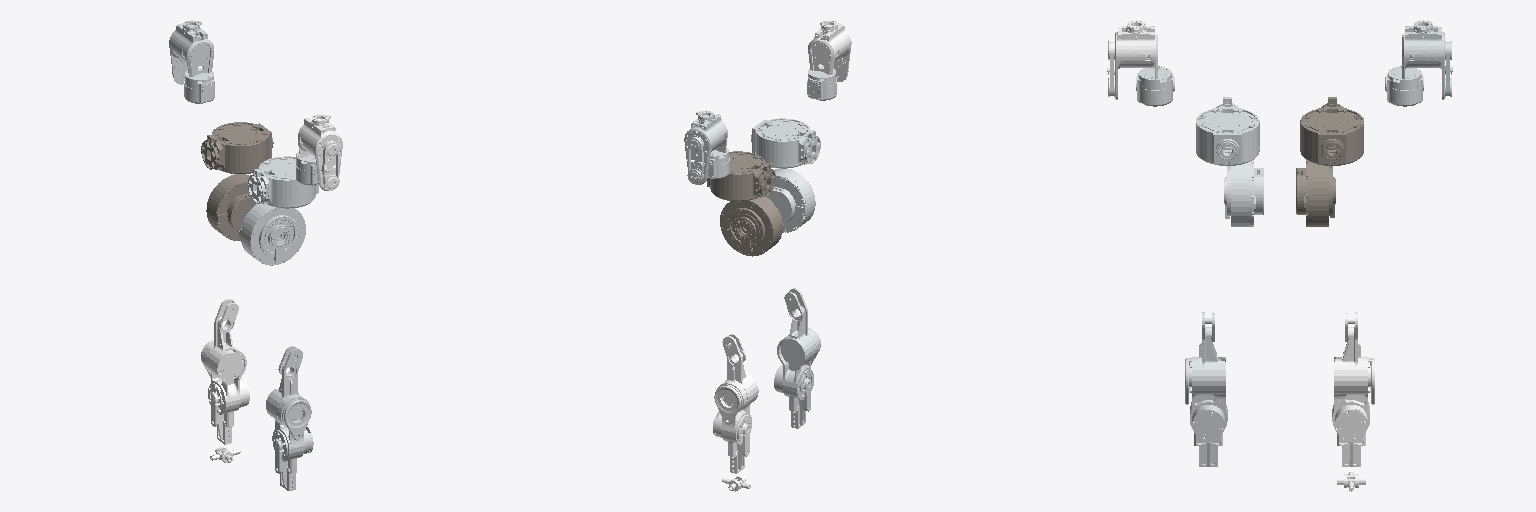
--- Render facts (derived) ---
The picture shows the robot from 3 angles, left to right: view 1: azimuth 30°, elevation 25°; view 2: azimuth 150°, elevation 25°; view 3: azimuth 270°, elevation 25°; orthographic projection.
Robot: dora2.6_0830 — 21 links, 20 joints (12 revolute, 8 fixed); root link base_link; default pose: all joints at 0.
Visible links, largest first — view 1: l_leg_knee_Link, r_leg_knee_Link, r_leg_hip_yaw_Link, l_leg_hip_roll_Link, r_leg_hip_roll_Link, r_arm_shoulder_yaw_Link, l_leg_hip_yaw_Link, l_arm_shoulder_yaw_Link, l_arm_elbow_Link, r_arm_elbow_Link; view 2: r_leg_knee_Link, l_leg_knee_Link, l_leg_hip_yaw_Link, r_leg_hip_roll_Link, l_leg_hip_roll_Link, l_arm_shoulder_yaw_Link, r_leg_hip_yaw_Link, r_arm_shoulder_yaw_Link, r_arm_elbow_Link, l_arm_elbow_Link; view 3: l_leg_knee_Link, r_leg_knee_Link, l_leg_hip_roll_Link, r_leg_hip_roll_Link, l_arm_shoulder_yaw_Link, r_arm_shoulder_yaw_Link, r_leg_hip_yaw_Link, l_leg_hip_yaw_Link, l_arm_elbow_Link, r_arm_elbow_Link.
Link boxes in pixels (left/top/right/bottom): l_leg_knee_Link: left=201, top=299, right=249, bottom=444; r_leg_knee_Link: left=266, top=346, right=313, bottom=490; r_leg_hip_yaw_Link: left=239, top=203, right=305, bottom=265; l_leg_hip_roll_Link: left=201, top=122, right=273, bottom=173; r_leg_hip_roll_Link: left=248, top=156, right=318, bottom=208; r_arm_shoulder_yaw_Link: left=298, top=114, right=342, bottom=190; l_leg_hip_yaw_Link: left=206, top=174, right=256, bottom=240; l_arm_shoulder_yaw_Link: left=169, top=20, right=213, bottom=84; l_arm_elbow_Link: left=184, top=68, right=214, bottom=103; r_arm_elbow_Link: left=296, top=152, right=318, bottom=185; r_leg_knee_Link: left=774, top=288, right=820, bottom=428; l_leg_knee_Link: left=713, top=334, right=758, bottom=473; l_leg_hip_yaw_Link: left=720, top=196, right=783, bottom=256; r_leg_hip_roll_Link: left=751, top=118, right=820, bottom=168; l_leg_hip_roll_Link: left=707, top=151, right=775, bottom=201; l_arm_shoulder_yaw_Link: left=684, top=111, right=727, bottom=184; r_leg_hip_yaw_Link: left=767, top=168, right=815, bottom=232; r_arm_shoulder_yaw_Link: left=808, top=20, right=851, bottom=81; r_arm_elbow_Link: left=807, top=66, right=836, bottom=100; l_arm_elbow_Link: left=708, top=147, right=729, bottom=178; l_leg_knee_Link: left=1332, top=312, right=1374, bottom=466; r_leg_knee_Link: left=1185, top=312, right=1227, bottom=466; l_leg_hip_roll_Link: left=1300, top=97, right=1363, bottom=165; r_leg_hip_roll_Link: left=1196, top=97, right=1259, bottom=165; l_arm_shoulder_yaw_Link: left=1402, top=20, right=1452, bottom=99; r_arm_shoulder_yaw_Link: left=1107, top=20, right=1157, bottom=99; r_leg_hip_yaw_Link: left=1224, top=160, right=1263, bottom=226; l_leg_hip_yaw_Link: left=1296, top=160, right=1335, bottom=226; l_arm_elbow_Link: left=1385, top=66, right=1423, bottom=106; r_arm_elbow_Link: left=1136, top=66, right=1174, bottom=106.
Size in the robot's own frame: 0.1427 by 0.5938 by 0.8781 metres.
Meshes: 21 distinct files referenced, 11 mesh visuals loaded (11 binary STL); not drawn: 10 (reference not matched to a file when rendering).

robot.urdf — dora2.6_0830:
<?xml version="1.0" encoding="utf-8"?>
<!-- This URDF was automatically created by SolidWorks to URDF Exporter! Originally created by Stephen Brawner ([email redacted]) 
     Commit Version: 1.6.0-4-g7f85cfe  Build Version: 1.6.7995.38578
     For more information, please see http://wiki.ros.org/sw_urdf_exporter -->
<robot
  name="dora2.6_0830">

  <link
    name="base_link">
    <inertial>
      <origin
        xyz="-0.026074 0.00081098 0.059104"
        rpy="0 0 0" />
      <mass
        value="9.5428" />
      <inertia
        ixx="0.033938"
        ixy="-9.4381E-07"
        ixz="9.0452E-06"
        iyy="0.023262"
        iyz="1.2173E-05"
        izz="0.021795" />
    </inertial>
    <visual>
      <origin
        xyz="0 0 0"
        rpy="0 0 0" />
      <geometry>
        <mesh
          filename="../meshes/base_link.STL" />
      </geometry>
      <material
        name="">
        <color
          rgba="0.89804 0.91765 0.92941 1" />
      </material>
    </visual>
    <collision>
      <origin
        xyz="0 0. 0.1"
        rpy="0 0 0" />
      <geometry>
        <box size="0.25 0.22 0.32"/>
      </geometry>
    </collision>
  </link>
  <link
    name="l_arm_shoulder_pitch_Link">
    <inertial>
      <origin
        xyz="0.00024061 -9.4525E-05 0.052553"
        rpy="0 0 0" />
      <mass
        value="0.6754" />
      <inertia
        ixx="0.0002956"
        ixy="2.4878E-07"
        ixz="-7.477E-06"
        iyy="0.00023377"
        iyz="9.6741E-07"
        izz="0.00022629" />
    </inertial>
    <visual>
      <origin
        xyz="0 0 0"
        rpy="0 0 0" />
      <geometry>
        <mesh
          filename="../meshes/l_arm_shoulder_pitch_Link.STL" />
      </geometry>
      <material
        name="">
        <color
          rgba="0.89804 0.91765 0.92941 1" />
      </material>
    </visual>
    <collision>
      <origin
        xyz="0 0 0"
        rpy="0 0 0" />
      <geometry>
        <mesh
          filename="../meshes/l_arm_shoulder_pitch_Link.STL" />
      </geometry>
    </collision>
  </link>
  <joint
    name="l_arm_shoulder_pitch_joint"
    type="fixed">
    <origin
      xyz="-0.0034447 0.18217 0.20865"
      rpy="-1.2217 0 0" />
    <parent
      link="base_link" />
    <child
      link="l_arm_shoulder_pitch_Link" />
    <axis
      xyz="0 0 1" />
    <limit
      lower="-2"
      upper="2"
      effort="100"
      velocity="10" />
  </joint>
  <link
    name="l_arm_shoulder_roll_Link">
    <inertial>
      <origin
        xyz="-0.00029941 6.308E-05 -0.074335"
        rpy="0 0 0" />
      <mass
        value="0.55465" />
      <inertia
        ixx="0.00039714"
        ixy="3.4586E-08"
        ixz="-4.4404E-05"
        iyy="0.00041301"
        iyz="-5.2818E-08"
        izz="0.00025009" />
    </inertial>
    <visual>
      <origin
        xyz="0 0 0"
        rpy="0 0 0" />
      <geometry>
        <mesh
          filename="../meshes/l_arm_shoulder_roll_Link.STL" />
      </geometry>
      <material
        name="">
        <color
          rgba="0.89804 0.91765 0.92941 1" />
      </material>
    </visual>
    <collision>
      <origin
        xyz="0 0 0"
        rpy="0 0 0" />
      <geometry>
        <mesh
          filename="../meshes/l_arm_shoulder_roll_Link.STL" />
      </geometry>
    </collision>
  </link>
  <joint
    name="l_arm_shoulder_roll_joint"
    type="fixed">
    <origin
      xyz="0.00094467 0 0.068901"
      rpy="1.2217 0 0" />
    <parent
      link="l_arm_shoulder_pitch_Link" />
    <child
      link="l_arm_shoulder_roll_Link" />
    <axis
      xyz="1 0 0" />
    <limit
      lower="-3"
      upper="0"
      effort="100"
      velocity="10" />
  </joint>
  <link
    name="l_arm_shoulder_yaw_Link">
    <inertial>
      <origin
        xyz="5.8038E-05 0.001704 -0.080449"
        rpy="0 0 0" />
      <mass
        value="0.60089" />
      <inertia
        ixx="0.00026556"
        ixy="-6.5782E-08"
        ixz="3.4956E-08"
        iyy="0.00028755"
        iyz="2.2947E-05"
        izz="0.00025779" />
    </inertial>
    <visual>
      <origin
        xyz="0 0 0"
        rpy="0 0 0" />
      <geometry>
        <mesh
          filename="../meshes/l_arm_shoulder_yaw_Link.STL" />
      </geometry>
      <material
        name="">
        <color
          rgba="0.89804 0.91765 0.92941 1" />
      </material>
    </visual>
    <collision>
      <origin
        xyz="0 0 0"
        rpy="0 0 0" />
      <geometry>
        <mesh
          filename="../meshes/l_arm_shoulder_yaw_Link.STL" />
      </geometry>
    </collision>
  </link>
  <joint
    name="l_arm_shoulder_yaw_joint"
    type="fixed">
    <origin
      xyz="0.0005 0 -0.11715"
      rpy="0 0 0" />
    <parent
      link="l_arm_shoulder_roll_Link" />
    <child
      link="l_arm_shoulder_yaw_Link" />
    <axis
      xyz="0 0 1" />
    <limit
      lower="-2"
      upper="2"
      effort="100"
      velocity="10" />
  </joint>
  <link
    name="l_arm_elbow_Link">
    <inertial>
      <origin
        xyz="2.523E-07 0.016195 -0.030689"
        rpy="0 0 0" />
      <mass
        value="0.07308" />
      <inertia
        ixx="4.5329E-05"
        ixy="-3.0359E-10"
        ixz="3.2522E-10"
        iyy="4.2842E-05"
        iyz="1.3012E-05"
        izz="3.8962E-05" />
    </inertial>
    <visual>
      <origin
        xyz="0 0 0"
        rpy="0 0 0" />
      <geometry>
        <mesh
          filename="../meshes/l_arm_elbow_Link.STL" />
      </geometry>
      <material
        name="">
        <color
          rgba="0.89804 0.91765 0.92941 1" />
      </material>
    </visual>
    <collision>
      <origin
        xyz="0 0 0"
        rpy="0 0 0" />
      <geometry>
        <mesh
          filename="../meshes/l_arm_elbow_Link.STL" />
      </geometry>
    </collision>
  </link>
  <joint
    name="l_arm_elbow_joint"
    type="fixed">
    <origin
      xyz="0 -0.03225 -0.10985"
      rpy="0 0 0" />
    <parent
      link="l_arm_shoulder_yaw_Link" />
    <child
      link="l_arm_elbow_Link" />
    <axis
      xyz="0 1 0" />
    <limit
      lower="-1.5"
      upper="1.5"
      effort="100"
      velocity="10" />
  </joint>
  <link
    name="r_arm_shoulder_pitch_Link">
    <inertial>
      <origin
        xyz="0.00024061 9.4525E-05 0.052553"
        rpy="0 0 0" />
      <mass
        value="0.6754" />
      <inertia
        ixx="0.0002956"
        ixy="-2.4878E-07"
        ixz="-7.477E-06"
        iyy="0.00023377"
        iyz="-9.6741E-07"
        izz="0.00022629" />
    </inertial>
    <visual>
      <origin
        xyz="0 0 0"
        rpy="0 0 0" />
      <geometry>
        <mesh
          filename="../meshes/r_arm_shoulder_pitch_Link.STL" />
      </geometry>
      <material
        name="">
        <color
          rgba="1 1 1 1" />
      </material>
    </visual>
    <collision>
      <origin
        xyz="0 0 0"
        rpy="0 0 0" />
      <geometry>
        <mesh
          filename="../meshes/r_arm_shoulder_pitch_Link.STL" />
      </geometry>
    </collision>
  </link>
  <joint
    name="r_arm_shoulder_pitch_joint"
    type="fixed">
    <origin
      xyz="-0.0034447 -0.18217 0.20865"
      rpy="1.2217 0 0" />
    <parent
      link="base_link" />
    <child
      link="r_arm_shoulder_pitch_Link" />
    <axis
      xyz="0 0 1" />
    <limit
      lower="-2"
      upper="2"
      effort="100"
      velocity="10" />
  </joint>
  <link
    name="r_arm_shoulder_roll_Link">
    <inertial>
      <origin
        xyz="-0.00029941 -6.308E-05 -0.074335"
        rpy="0 0 0" />
      <mass
        value="0.55465" />
      <inertia
        ixx="0.00039714"
        ixy="-3.4586E-08"
        ixz="-4.4404E-05"
        iyy="0.00041301"
        iyz="5.2818E-08"
        izz="0.00025009" />
    </inertial>
    <visual>
      <origin
        xyz="0 0 0"
        rpy="0 0 0" />
      <geometry>
        <mesh
          filename="../meshes/r_arm_shoulder_roll_Link.STL" />
      </geometry>
      <material
        name="">
        <color
          rgba="1 1 1 1" />
      </material>
    </visual>
    <collision>
      <origin
        xyz="0 0 0"
        rpy="0 0 0" />
      <geometry>
        <mesh
          filename="../meshes/r_arm_shoulder_roll_Link.STL" />
      </geometry>
    </collision>
  </link>
  <joint
    name="r_arm_shoulder_roll_joint"
    type="fixed">
    <origin
      xyz="0.00094467 0 0.068901"
      rpy="-1.2217 0 0" />
    <parent
      link="r_arm_shoulder_pitch_Link" />
    <child
      link="r_arm_shoulder_roll_Link" />
    <axis
      xyz="1 0 0" />
    <limit
      lower="0"
      upper="3"
      effort="100"
      velocity="10" />
  </joint>
  <link
    name="r_arm_shoulder_yaw_Link">
    <inertial>
      <origin
        xyz="5.8038E-05 -0.001704 -0.080449"
        rpy="0 0 0" />
      <mass
        value="0.60089" />
      <inertia
        ixx="0.00026556"
        ixy="6.5782E-08"
        ixz="3.4956E-08"
        iyy="0.00028755"
        iyz="-2.2947E-05"
        izz="0.00025779" />
    </inertial>
    <visual>
      <origin
        xyz="0 0 0"
        rpy="0 0 0" />
      <geometry>
        <mesh
          filename="../meshes/r_arm_shoulder_yaw_Link.STL" />
      </geometry>
      <material
        name="">
        <color
          rgba="1 1 1 1" />
      </material>
    </visual>
    <collision>
      <origin
        xyz="0 0 0"
        rpy="0 0 0" />
      <geometry>
        <mesh
          filename="../meshes/r_arm_shoulder_yaw_Link.STL" />
      </geometry>
    </collision>
  </link>
  <joint
    name="r_arm_shoulder_yaw_joint"
    type="fixed">
    <origin
      xyz="0.0005 0 -0.11715"
      rpy="0 0 0" />
    <parent
      link="r_arm_shoulder_roll_Link" />
    <child
      link="r_arm_shoulder_yaw_Link" />
    <axis
      xyz="0 0 1" />
    <limit
      lower="-2"
      upper="2"
      effort="100"
      velocity="10" />
  </joint>
  <link
    name="r_arm_elbow_Link">
    <inertial>
      <origin
        xyz="-2.523E-07 -0.016195 -0.030689"
        rpy="0 0 0" />
      <mass
        value="0.07308" />
      <inertia
        ixx="4.5329E-05"
        ixy="-3.0359E-10"
        ixz="-3.2522E-10"
        iyy="4.2842E-05"
        iyz="-1.3012E-05"
        izz="3.8962E-05" />
    </inertial>
    <visual>
      <origin
        xyz="0 0 0"
        rpy="0 0 0" />
      <geometry>
        <mesh
          filename="../meshes/r_arm_elbow_Link.STL" />
      </geometry>
      <material
        name="">
        <color
          rgba="0.89804 0.91765 0.92941 1" />
      </material>
    </visual>
    <collision>
      <origin
        xyz="0 0 0"
        rpy="0 0 0" />
      <geometry>
        <mesh
          filename="../meshes/r_arm_elbow_Link.STL" />
      </geometry>
    </collision>
  </link>
  <joint
    name="r_arm_elbow_joint"
    type="fixed">
    <origin
      xyz="0 0.03225 -0.10985"
      rpy="0 0 0" />
    <parent
      link="r_arm_shoulder_yaw_Link" />
    <child
      link="r_arm_elbow_Link" />
    <axis
      xyz="0 1 0" />
    <limit
      lower="-1.5"
      upper="1.5"
      effort="100"
      velocity="10" />
  </joint>
  <link
    name="l_leg_hip_roll_Link">
    <inertial>
      <origin
        xyz="0.057165 0.00012494 -0.00047338"
        rpy="0 0 0" />
      <mass
        value="1.2507" />
      <inertia
        ixx="0.001114"
        ixy="1.3491E-06"
        ixz="4.9303E-06"
        iyy="0.0012191"
        iyz="-2.5935E-07"
        izz="0.0021537" />
    </inertial>
    <visual>
      <origin
        xyz="0 0 0"
        rpy="0 0 0" />
      <geometry>
        <mesh
          filename="../meshes/l_leg_hip_roll_Link.STL" />
      </geometry>
      <material
        name="">
        <color
          rgba="0.64706 0.61961 0.58824 1" />
      </material>
    </visual>
    <!-- <collision>
      <origin
        xyz="0 0 0"
        rpy="0 0 0" />
      <geometry>
        <mesh
          filename="../meshes/l_leg_hip_roll_Link.STL" />
      </geometry>
    </collision> -->
  </link>
  <joint
    name="l_leg_hip_roll_joint"
    type="revolute">
    <origin
      xyz="-0.0647 0.09002 -0.08415"
      rpy="0 0 0" />
    <parent
      link="base_link" />
    <child
      link="l_leg_hip_roll_Link" />
    <axis
      xyz="1 0 0" />
    <limit
      lower="-0.5"
      upper="1"
      effort="90"
      velocity="10" />
  </joint>
  <link
    name="l_leg_hip_yaw_Link">
    <inertial>
      <origin
        xyz="0.00017067 -0.018574 -0.070398"
        rpy="0 0 0" />
      <mass
        value="1.6553" />
      <inertia
        ixx="0.0017273"
        ixy="1.2289E-06"
        ixz="-2.3628E-06"
        iyy="0.0030808"
        iyz="2.6947E-06"
        izz="0.0015598" />
    </inertial>
    <visual>
      <origin
        xyz="0 0 0"
        rpy="0 0 0" />
      <geometry>
        <mesh
          filename="../meshes/l_leg_hip_yaw_Link.STL" />
      </geometry>
      <material
        name="">
        <color
          rgba="0.64706 0.61961 0.58824 1" />
      </material>
    </visual>
    <collision>
      <origin
        xyz="0 0 0"
        rpy="0 0 0" />
      <geometry>
        <mesh
          filename="../meshes/l_leg_hip_yaw_Link.STL" />
      </geometry>
    </collision>
  </link>
  <joint
    name="l_leg_hip_yaw_joint"
    type="revolute">
    <origin
      xyz="0.0645 0 -0.0375"
      rpy="0 0 0" />
    <parent
      link="l_leg_hip_roll_Link" />
    <child
      link="l_leg_hip_yaw_Link" />
    <axis
      xyz="0 0 1" />
    <limit
      lower="-0.8"
      upper="1.05"
      effort="90"
      velocity="10" />
  </joint>
  <link
    name="l_leg_hip_pitch_Link">
    <inertial>
      <origin
        xyz="0.0026578 0.017741 -0.051954"
        rpy="0 0 0" />
      <mass
        value="2.6997" />
      <inertia
        ixx="0.01282"
        ixy="-7.2283E-06"
        ixz="0.00012255"
        iyy="0.014693"
        iyz="0.00018258"
        izz="0.0021953" />
    </inertial>
    <visual>
      <origin
        xyz="0 0 0"
        rpy="0 0 0" />
      <geometry>
        <mesh
          filename="../meshes/l_leg_hip_pitch_Link.STL" />
      </geometry>
      <material
        name="">
        <color
          rgba="1 1 1 1" />
      </material>
    </visual>
    <collision>
      <origin
        xyz="0 0 0"
        rpy="0 0 0" />
      <geometry>
        <mesh
          filename="../meshes/l_leg_hip_pitch_Link.STL" />
      </geometry>
    </collision>
  </link>
  <joint
    name="l_leg_hip_pitch_joint"
    type="revolute">
    <origin
      xyz="0 0.032659 -0.076"
      rpy="0 0 0" />
    <parent
      link="l_leg_hip_yaw_Link" />
    <child
      link="l_leg_hip_pitch_Link" />
    <axis
      xyz="0 1 0" />
    <limit
      lower="-1.5"
      upper="1.5"
      effort="150"
      velocity="10" />
  </joint>
  <link
    name="l_leg_knee_Link">
    <inertial>
      <origin
        xyz="-0.0062096 0.0025588 -0.14058"
        rpy="0 0 0" />
      <mass
        value="1.7014" />
      <inertia
        ixx="0.0036795"
        ixy="-4.0001E-06"
        ixz="-2.5866E-05"
        iyy="0.0036512"
        iyz="-0.00027478"
        izz="0.00045575" />
    </inertial>
    <visual>
      <origin
        xyz="0 0 0"
        rpy="0 0 0" />
      <geometry>
        <mesh
          filename="../meshes/l_leg_knee_Link.STL" />
      </geometry>
      <material
        name="">
        <color
          rgba="1 1 1 1" />
      </material>
    </visual>
    <collision>
      <origin
        xyz="0 0 0"
        rpy="0 0 0" />
      <geometry>
        <mesh
          filename="../meshes/l_leg_knee_Link.STL" />
      </geometry>
    </collision>
  </link>
  <joint
    name="l_leg_knee_joint"
    type="revolute">
    <origin
      xyz="0 0 -0.27"
      rpy="0 0 0" />
    <parent
      link="l_leg_hip_pitch_Link" />
    <child
      link="l_leg_knee_Link" />
    <axis
      xyz="0 1 0" />
    <limit
      lower="0"
      upper="2.25"
      effort="150"
      velocity="10" />
  </joint>
  <link
    name="l_leg_ankle_pitch_Link">
    <inertial>
      <origin
        xyz="-0.017566 -1.9889E-05 1.2907E-08"
        rpy="0 0 0" />
      <mass
        value="0.18423" />
      <inertia
        ixx="1.2397E-05"
        ixy="1.1543E-06"
        ixz="-4.4333E-10"
        iyy="1.7643E-05"
        iyz="7.8322E-10"
        izz="2.16E-05" />
    </inertial>
    <visual>
      <origin
        xyz="0 0 0"
        rpy="0 0 0" />
      <geometry>
        <mesh
          filename="../meshes/l_leg_ankle_pitch_Link.STL" />
      </geometry>
      <material
        name="">
        <color
          rgba="1 1 1 1" />
      </material>
    </visual>
    <!-- <collision>
      <origin
        xyz="0 0 0"
        rpy="0 0 0" />
      <geometry>
        <mesh
          filename="../meshes/l_leg_ankle_pitch_Link.STL" />
      </geometry>
    </collision> -->
  </link>
  <joint
    name="l_leg_ankle_pitch_joint"
    type="revolute">
    <origin
      xyz="-2.6375E-05 0 -0.28"
      rpy="0 0 0" />
    <parent
      link="l_leg_knee_Link" />
    <child
      link="l_leg_ankle_pitch_Link" />
    <axis
      xyz="0 1 0" />
    <limit
      lower="-0.97"
      upper="0.57"
      effort="36"
      velocity="10" />
  </joint>
  <link
    name="l_leg_ankle_roll_Link">
    <inertial>
      <origin
        xyz="0.019178 -0.0031074 -0.037465"
        rpy="0 0 0" />
      <mass
        value="0.60591" />
      <inertia
        ixx="0.00026575"
        ixy="-3.345E-09"
        ixz="-1.9811E-06"
        iyy="0.0010039"
        iyz="2.0542E-06"
        izz="0.0011851" />
    </inertial>
    <visual>
      <origin
        xyz="0 0 0"
        rpy="0 0 0" />
      <geometry>
        <mesh
          filename="../meshes/l_leg_ankle_roll_Link.STL" />
      </geometry>
      <material
        name="">
        <color
          rgba="1 1 1 1" />
      </material>
    </visual>
    <collision>
      <origin
        xyz="0 0 0"
        rpy="0 0 0" />
      <geometry>
        <mesh
          filename="../meshes/l_leg_ankle_roll_Link.STL" />
      </geometry>
    </collision>
  </link>
  <joint
    name="l_leg_ankle_roll_joint"
    type="revolute">
    <origin
      xyz="0 0 0"
      rpy="0 0 0" />
    <parent
      link="l_leg_ankle_pitch_Link" />
    <child
      link="l_leg_ankle_roll_Link" />
    <axis
      xyz="1 0 0" />
    <limit
      lower="-0.5"
      upper="0.5"
      effort="36"
      velocity="10" />
  </joint>
  <link
    name="r_leg_hip_roll_Link">
    <inertial>
      <origin
        xyz="0.057165 -0.00012494 -0.00047338"
        rpy="0 0 0" />
      <mass
        value="1.2507" />
      <inertia
        ixx="0.001114"
        ixy="-1.3491E-06"
        ixz="4.9303E-06"
        iyy="0.0012191"
        iyz="2.5935E-07"
        izz="0.0021537" />
    </inertial>
    <visual>
      <origin
        xyz="0 0 0"
        rpy="0 0 0" />
      <geometry>
        <mesh
          filename="../meshes/r_leg_hip_roll_Link.STL" />
      </geometry>
      <material
        name="">
        <color
          rgba="0.89804 0.91765 0.92941 1" />
      </material>
    </visual>
    <!-- <collision>
      <origin
        xyz="0 0 0"
        rpy="0 0 0" />
      <geometry>
        <mesh
          filename="../meshes/r_leg_hip_roll_Link.STL" />
      </geometry>
    </collision> -->
  </link>
  <joint
    name="r_leg_hip_roll_joint"
    type="revolute">
    <origin
      xyz="-0.0647 -0.08998 -0.08415"
      rpy="0 0 0" />
    <parent
      link="base_link" />
    <child
      link="r_leg_hip_roll_Link" />
    <axis
      xyz="1 0 0" />
    <limit
      lower="-1"
      upper="0.5"
      effort="90"
      velocity="10" />
  </joint>
  <link
    name="r_leg_hip_yaw_Link">
    <inertial>
      <origin
        xyz="0.00017067 0.018574 -0.070398"
        rpy="0 0 0" />
      <mass
        value="1.6553" />
      <inertia
        ixx="0.0017273"
        ixy="-1.2289E-06"
        ixz="-2.3628E-06"
        iyy="0.0030808"
        iyz="-2.6947E-06"
        izz="0.0015598" />
    </inertial>
    <visual>
      <origin
        xyz="0 0 0"
        rpy="0 0 0" />
      <geometry>
        <mesh
          filename="../meshes/r_leg_hip_yaw_Link.STL" />
      </geometry>
      <material
        name="">
        <color
          rgba="0.89804 0.91765 0.92941 1" />
      </material>
    </visual>
    <collision>
      <origin
        xyz="0 0 0"
        rpy="0 0 0" />
      <geometry>
        <mesh
          filename="../meshes/r_leg_hip_yaw_Link.STL" />
      </geometry>
    </collision>
  </link>
  <joint
    name="r_leg_hip_yaw_joint"
    type="revolute">
    <origin
      xyz="0.0645 0 -0.0375"
      rpy="0 0 0" />
    <parent
      link="r_leg_hip_roll_Link" />
    <child
      link="r_leg_hip_yaw_Link" />
    <axis
      xyz="0 0 1" />
    <limit
      lower="-1.05"
      upper="0.8"
      effort="90"
      velocity="10" />
  </joint>
  <link
    name="r_leg_hip_pitch_Link">
    <inertial>
      <origin
        xyz="0.0025536 -0.018547 -0.049918"
        rpy="0 0 0" />
      <mass
        value="2.6997" />
      <inertia
        ixx="0.012929"
        ixy="7.2282E-06"
        ixz="0.00012255"
        iyy="0.014897"
        iyz="-0.00018258"
        izz="0.0023031" />
    </inertial>
    <visual>
      <origin
        xyz="0 0 0"
        rpy="0 0 0" />
      <geometry>
        <mesh
          filename="../meshes/r_leg_hip_pitch_Link.STL" />
      </geometry>
      <material
        name="">
        <color
          rgba="0.89804 0.91765 0.92941 1" />
      </material>
    </visual>
    <collision>
      <origin
        xyz="0 0 0"
        rpy="0 0 0" />
      <geometry>
        <mesh
          filename="../meshes/r_leg_hip_pitch_Link.STL" />
      </geometry>
    </collision>
  </link>
  <joint
    name="r_leg_hip_pitch_joint"
    type="revolute">
    <origin
      xyz="0 -0.0327 -0.076"
      rpy="0 0 0" />
    <parent
      link="r_leg_hip_yaw_Link" />
    <child
      link="r_leg_hip_pitch_Link" />
    <axis
      xyz="0 1 0" />
    <limit
      lower="-1.5"
      upper="1.5"
      effort="150"
      velocity="10" />
  </joint>
  <link
    name="r_leg_knee_Link">
    <inertial>
      <origin
        xyz="-0.005815 -0.0025277 -0.13971"
        rpy="0 0 0" />
      <mass
        value="1.768" />
      <inertia
        ixx="0.003703"
        ixy="3.9986E-06"
        ixz="-2.5865E-05"
        iyy="0.0036746"
        iyz="0.00027478"
        izz="0.00047253" />
    </inertial>
    <visual>
      <origin
        xyz="0 0 0"
        rpy="0 0 0" />
      <geometry>
        <mesh
          filename="../meshes/r_leg_knee_Link.STL" />
      </geometry>
      <material
        name="">
        <color
          rgba="0.89804 0.91765 0.92941 1" />
      </material>
    </visual>
    <collision>
      <origin
        xyz="0 0 0"
        rpy="0 0 0" />
      <geometry>
        <mesh
          filename="../meshes/r_leg_knee_Link.STL" />
      </geometry>
    </collision>
  </link>
  <joint
    name="r_leg_knee_joint"
    type="revolute">
    <origin
      xyz="0 0 -0.27"
      rpy="0 0 0" />
    <parent
      link="r_leg_hip_pitch_Link" />
    <child
      link="r_leg_knee_Link" />
    <axis
      xyz="0 1 0" />
    <limit
      lower="0.0"
      upper="2.25"
      effort="150"
      velocity="10" />
  </joint>
  <link
    name="r_leg_ankle_pitch_Link">
    <inertial>
      <origin
        xyz="-0.017566 1.9878E-05 1.6743E-08"
        rpy="0 0 0" />
      <mass
        value="0.18423" />
      <inertia
        ixx="1.2397E-05"
        ixy="-1.1543E-06"
        ixz="-4.2796E-10"
        iyy="1.7643E-05"
        iyz="-7.6351E-10"
        izz="2.16E-05" />
    </inertial>
    <visual>
      <origin
        xyz="0 0 0"
        rpy="0 0 0" />
      <geometry>
        <mesh
          filename="../meshes/r_leg_ankle_pitch_Link.STL" />
      </geometry>
      <material
        name="">
        <color
          rgba="0.64706 0.61961 0.58824 1" />
      </material>
    </visual>
    <!-- <collision>
      <origin
        xyz="0 0 0"
        rpy="0 0 0" />
      <geometry>
        <mesh
          filename="../meshes/r_leg_ankle_pitch_Link.STL" />
      </geometry>
    </collision> -->
  </link>
  <joint
    name="r_leg_ankle_pitch_joint"
    type="revolute">
    <origin
      xyz="-2.6375E-05 0 -0.28"
      rpy="0 0 0" />
    <parent
      link="r_leg_knee_Link" />
    <child
      link="r_leg_ankle_pitch_Link" />
    <axis
      xyz="0 1 0" />
    <limit
      lower="-0.97"
      upper="0.57"
      effort="36"
      velocity="10" />
  </joint>
  <link
    name="r_leg_ankle_roll_Link">
    <inertial>
      <origin
        xyz="0.019178 -0.0031074 -0.037465"
        rpy="0 0 0" />
      <mass
        value="0.60591" />
      <inertia
        ixx="0.00026575"
        ixy="3.345E-09"
        ixz="-1.9811E-06"
        iyy="0.0010039"
        iyz="-2.0542E-06"
        izz="0.0011851" />
    </inertial>
    <visual>
      <origin
        xyz="0 0 0"
        rpy="0 0 0" />
      <geometry>
        <mesh
          filename="../meshes/r_leg_ankle_roll_Link.STL" />
      </geometry>
      <material
        name="">
        <color
          rgba="0.89804 0.91765 0.92941 1" />
      </material>
    </visual>
    <collision>
      <origin
        xyz="0 0 0"
        rpy="0 0 0" />
      <geometry>
        <mesh
          filename="../meshes/r_leg_ankle_roll_Link.STL" />
      </geometry>
    </collision>
  </link>
  <joint
    name="r_leg_ankle_roll_joint"
    type="revolute">
    <origin
      xyz="0 0 0"
      rpy="0 0 0" />
    <parent
      link="r_leg_ankle_pitch_Link" />
    <child
      link="r_leg_ankle_roll_Link" />
    <axis
      xyz="1 0 0" />
    <limit
      lower="-0.5"
      upper="0.5"
      effort="36"
      velocity="10" />
  </joint>
</robot>
